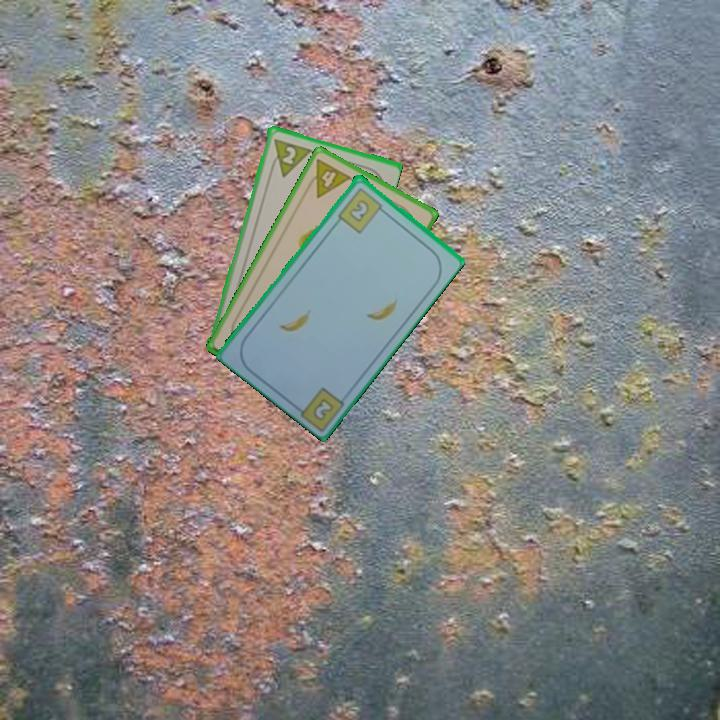2b: (334, 184, 389, 236), (309, 394, 337, 421)
2p: (265, 135, 313, 180)
4p: (301, 155, 354, 201)
